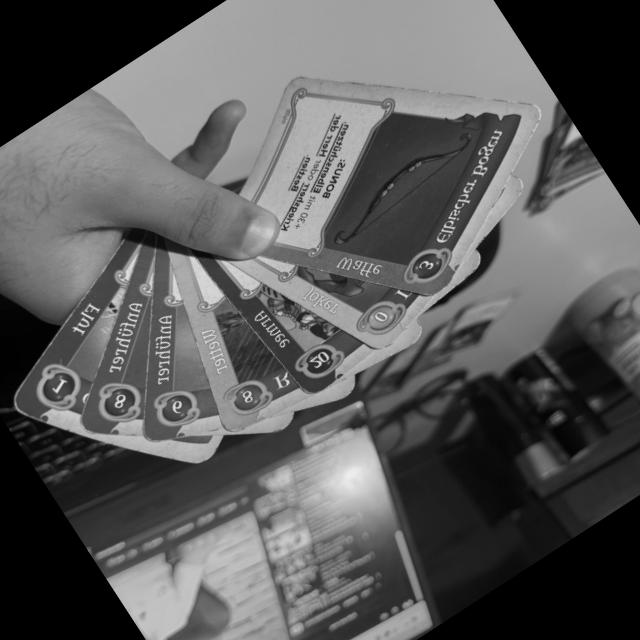Doppelganger: (218, 253, 433, 350)
Elven Longbow: (239, 72, 547, 299)
Fountain Of Life: (13, 227, 144, 433)
King: (80, 228, 157, 435)
Knights: (188, 245, 378, 396)
Queen: (145, 232, 222, 442)
Rainstorm: (165, 232, 311, 431)
